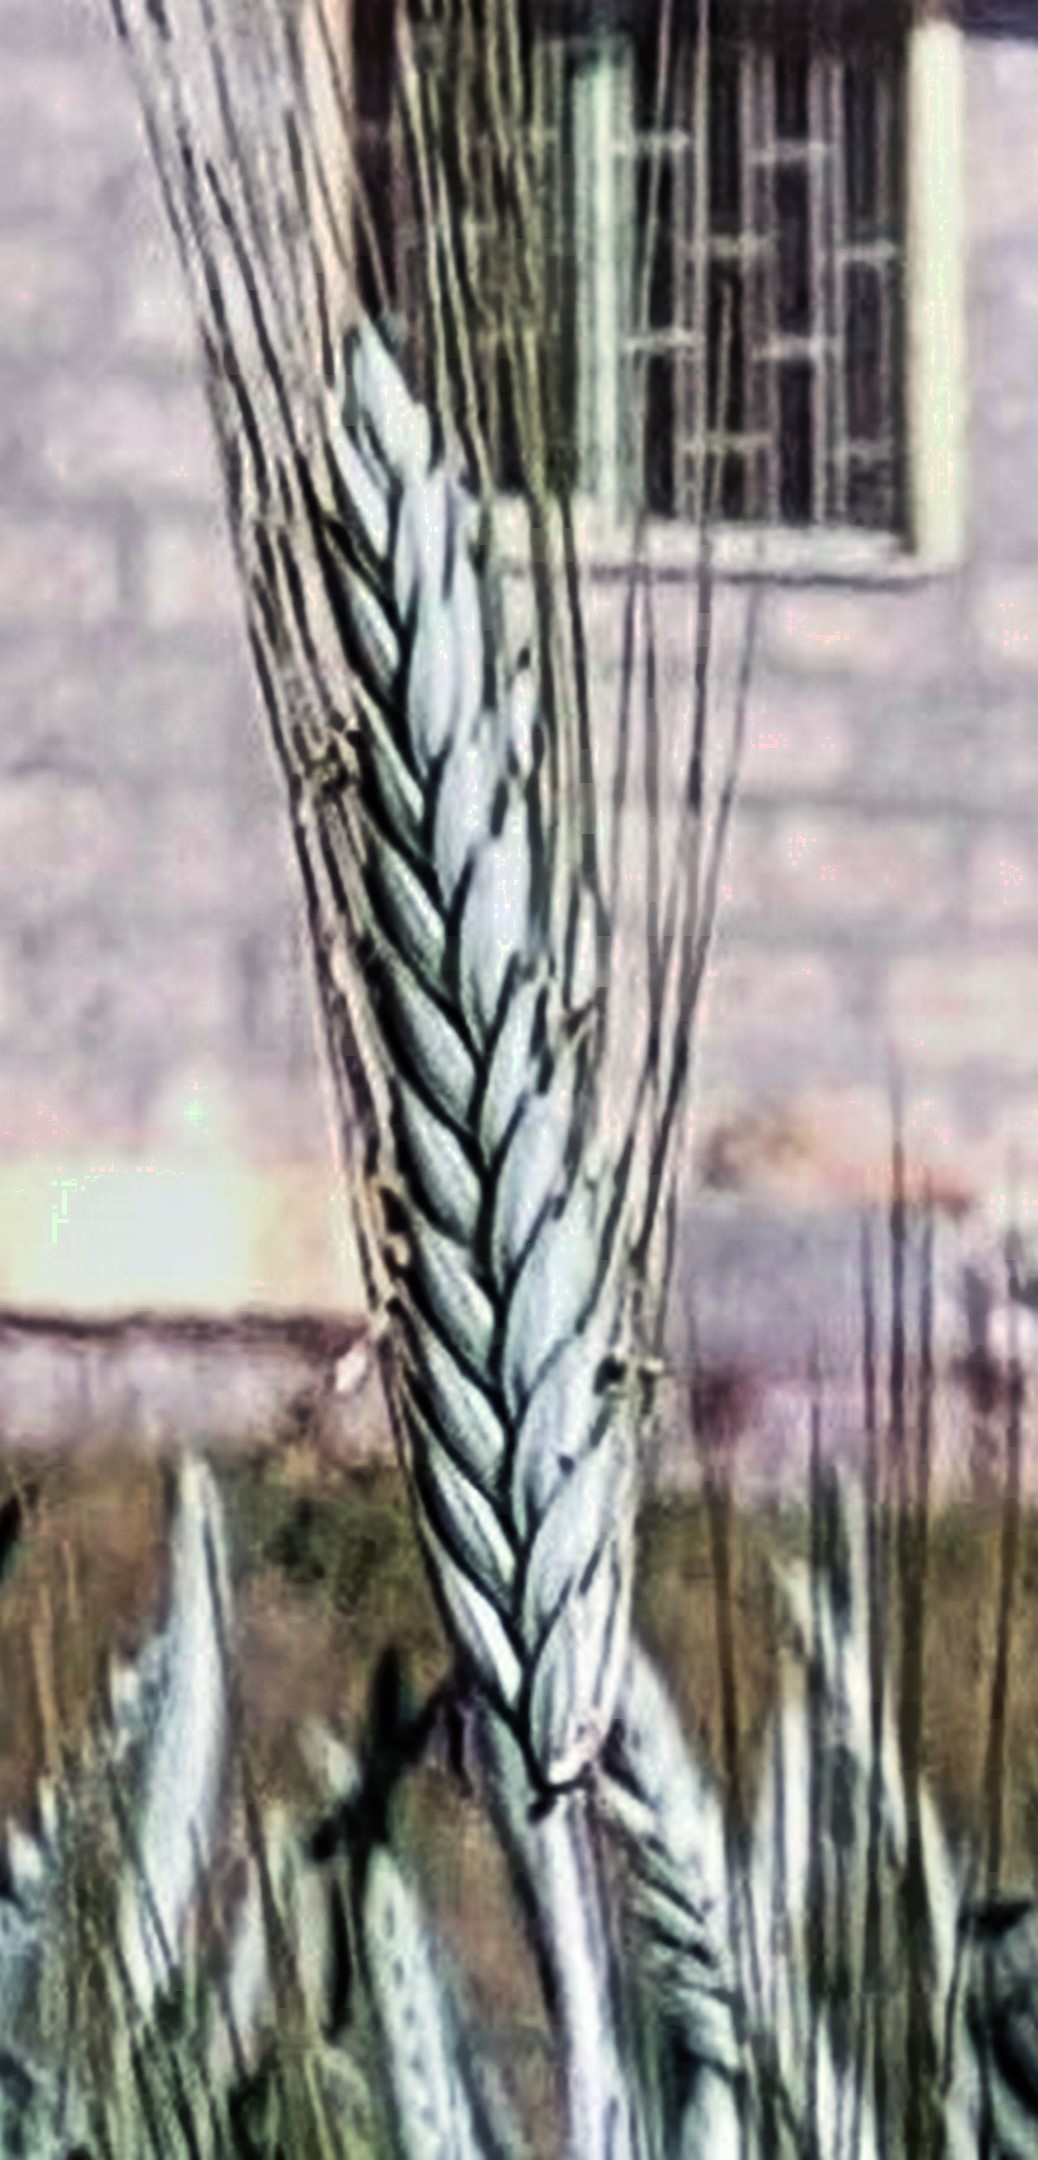Healthy Wheat: (253, 299, 648, 1752)
